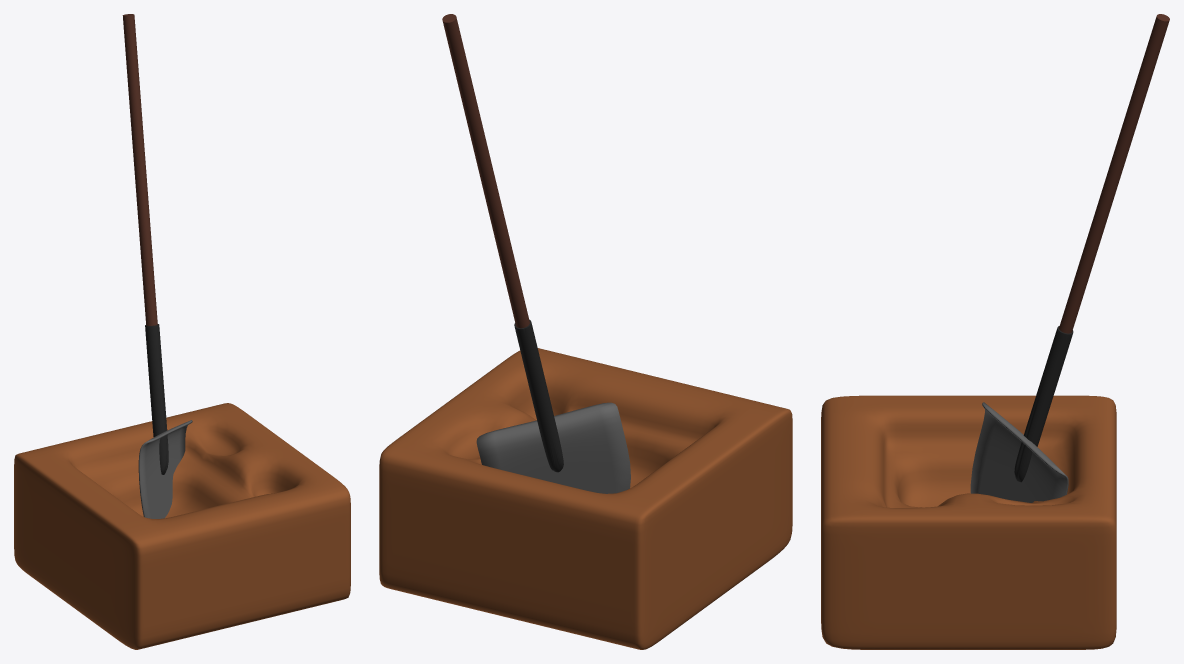
File: ClayPit.fbx
3 renders of one model, left to right at view 1: azimuth 30°, elevation 25°; view 2: azimuth 150°, elevation 25°; view 3: azimuth 270°, elevation 25°, orthographic. The views are drawn at different scales.
Visible parts, largest first — view 1: ClayPit, WoodHandel, Shovel, MetalHandel; view 2: ClayPit, Shovel, WoodHandel, MetalHandel; view 3: ClayPit, Shovel, WoodHandel, MetalHandel.
Boxes of the visible parts, x1,y1,x2,y2 form: ClayPit: (14, 403, 350, 649); WoodHandel: (122, 14, 157, 325); Shovel: (138, 420, 192, 518); MetalHandel: (145, 324, 168, 474); ClayPit: (379, 348, 792, 649); Shovel: (476, 402, 630, 493); WoodHandel: (442, 14, 529, 328); MetalHandel: (514, 319, 563, 472); ClayPit: (821, 395, 1116, 649); Shovel: (970, 402, 1068, 502); WoodHandel: (1059, 14, 1169, 333); MetalHandel: (1014, 326, 1073, 482).
Size of the model in its own units: 200 by 441 by 236.
